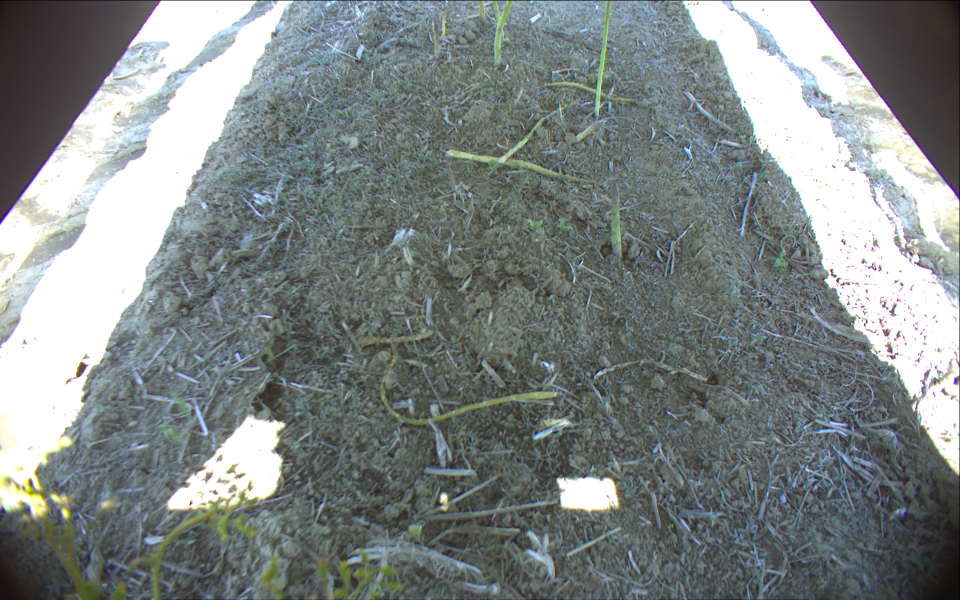aspa: (593, 1, 612, 125), (605, 178, 625, 262), (492, 1, 513, 65), (492, 1, 512, 38)
